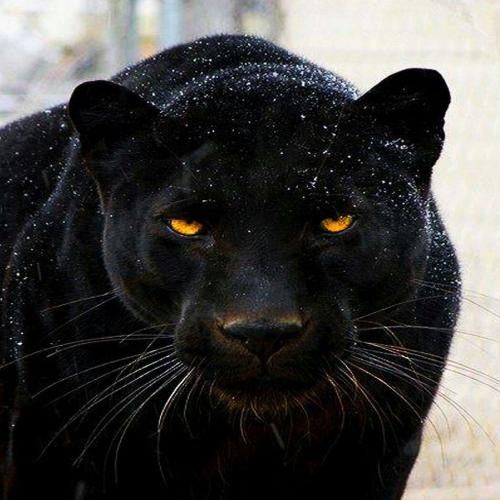panther-endangered: (11, 34, 465, 499)
